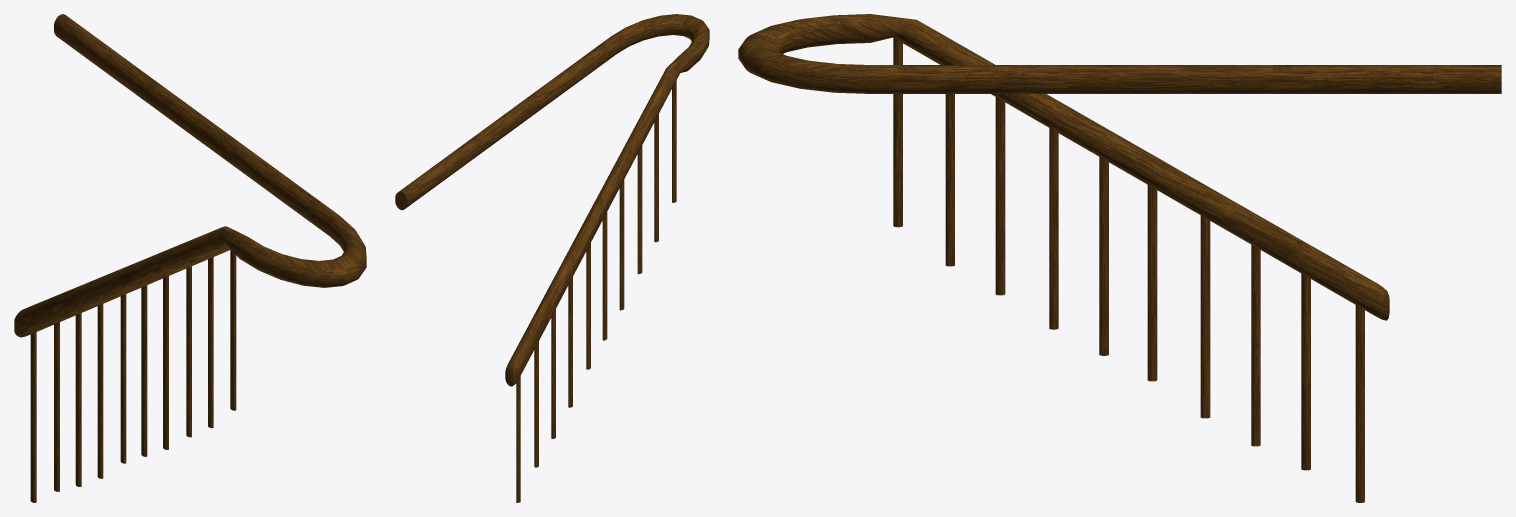
File: BanisterIncomplete.FBX
3 renders of one model, left to right at view 1: azimuth 30°, elevation 25°; view 2: azimuth 150°, elevation 25°; view 3: azimuth 270°, elevation 25°, orthographic. The views are drawn at different scales.
Visible parts, largest first — view 1: Box116, Cylinder004, Cylinder003, Cylinder006, Cylinder001, Cylinder005, Cylinder010, Cylinder007, Cylinder009, Cylinder008, Cylinder002; view 2: Box116, Cylinder007, Cylinder006, Cylinder008, Cylinder004, Cylinder003, Cylinder009, Cylinder001, Cylinder005, Cylinder002, Cylinder010; view 3: Box116, Cylinder004, Cylinder008, Cylinder005, Cylinder003, Cylinder007, Cylinder006, Cylinder001, Cylinder002, Cylinder009, Cylinder010.
Boxes of the visible parts, <box> form: Box116: <box>14,14,366,337</box>; Cylinder004: <box>97,304,103,478</box>; Cylinder003: <box>75,313,81,486</box>; Cylinder006: <box>141,285,147,456</box>; Cylinder001: <box>30,332,36,502</box>; Cylinder005: <box>120,294,126,463</box>; Cylinder010: <box>230,249,236,410</box>; Cylinder007: <box>163,276,168,449</box>; Cylinder009: <box>208,257,213,428</box>; Cylinder008: <box>186,266,191,437</box>; Cylinder002: <box>54,322,59,491</box>; Box116: <box>395,14,709,386</box>; Cylinder007: <box>619,180,624,310</box>; Cylinder006: <box>602,212,607,340</box>; Cylinder008: <box>637,145,642,274</box>; Cylinder004: <box>568,277,572,407</box>; Cylinder003: <box>551,309,555,438</box>; Cylinder009: <box>654,114,658,242</box>; Cylinder001: <box>516,376,520,502</box>; Cylinder005: <box>586,243,590,369</box>; Cylinder002: <box>534,341,538,467</box>; Cylinder010: <box>672,80,676,202</box>; Box116: <box>738,14,1501,320</box>; Cylinder004: <box>1200,215,1210,418</box>; Cylinder008: <box>995,97,1005,295</box>; Cylinder005: <box>1147,184,1157,381</box>; Cylinder003: <box>1251,244,1260,446</box>; Cylinder007: <box>1049,128,1058,329</box>; Cylinder006: <box>1099,156,1108,355</box>; Cylinder001: <box>1355,305,1364,502</box>; Cylinder002: <box>1301,273,1310,470</box>; Cylinder009: <box>945,94,954,266</box>; Cylinder010: <box>893,38,902,227</box>.
Size of the model in its own units: 9.33 by 35.37 by 50.34.
1 material, 1 textured.
